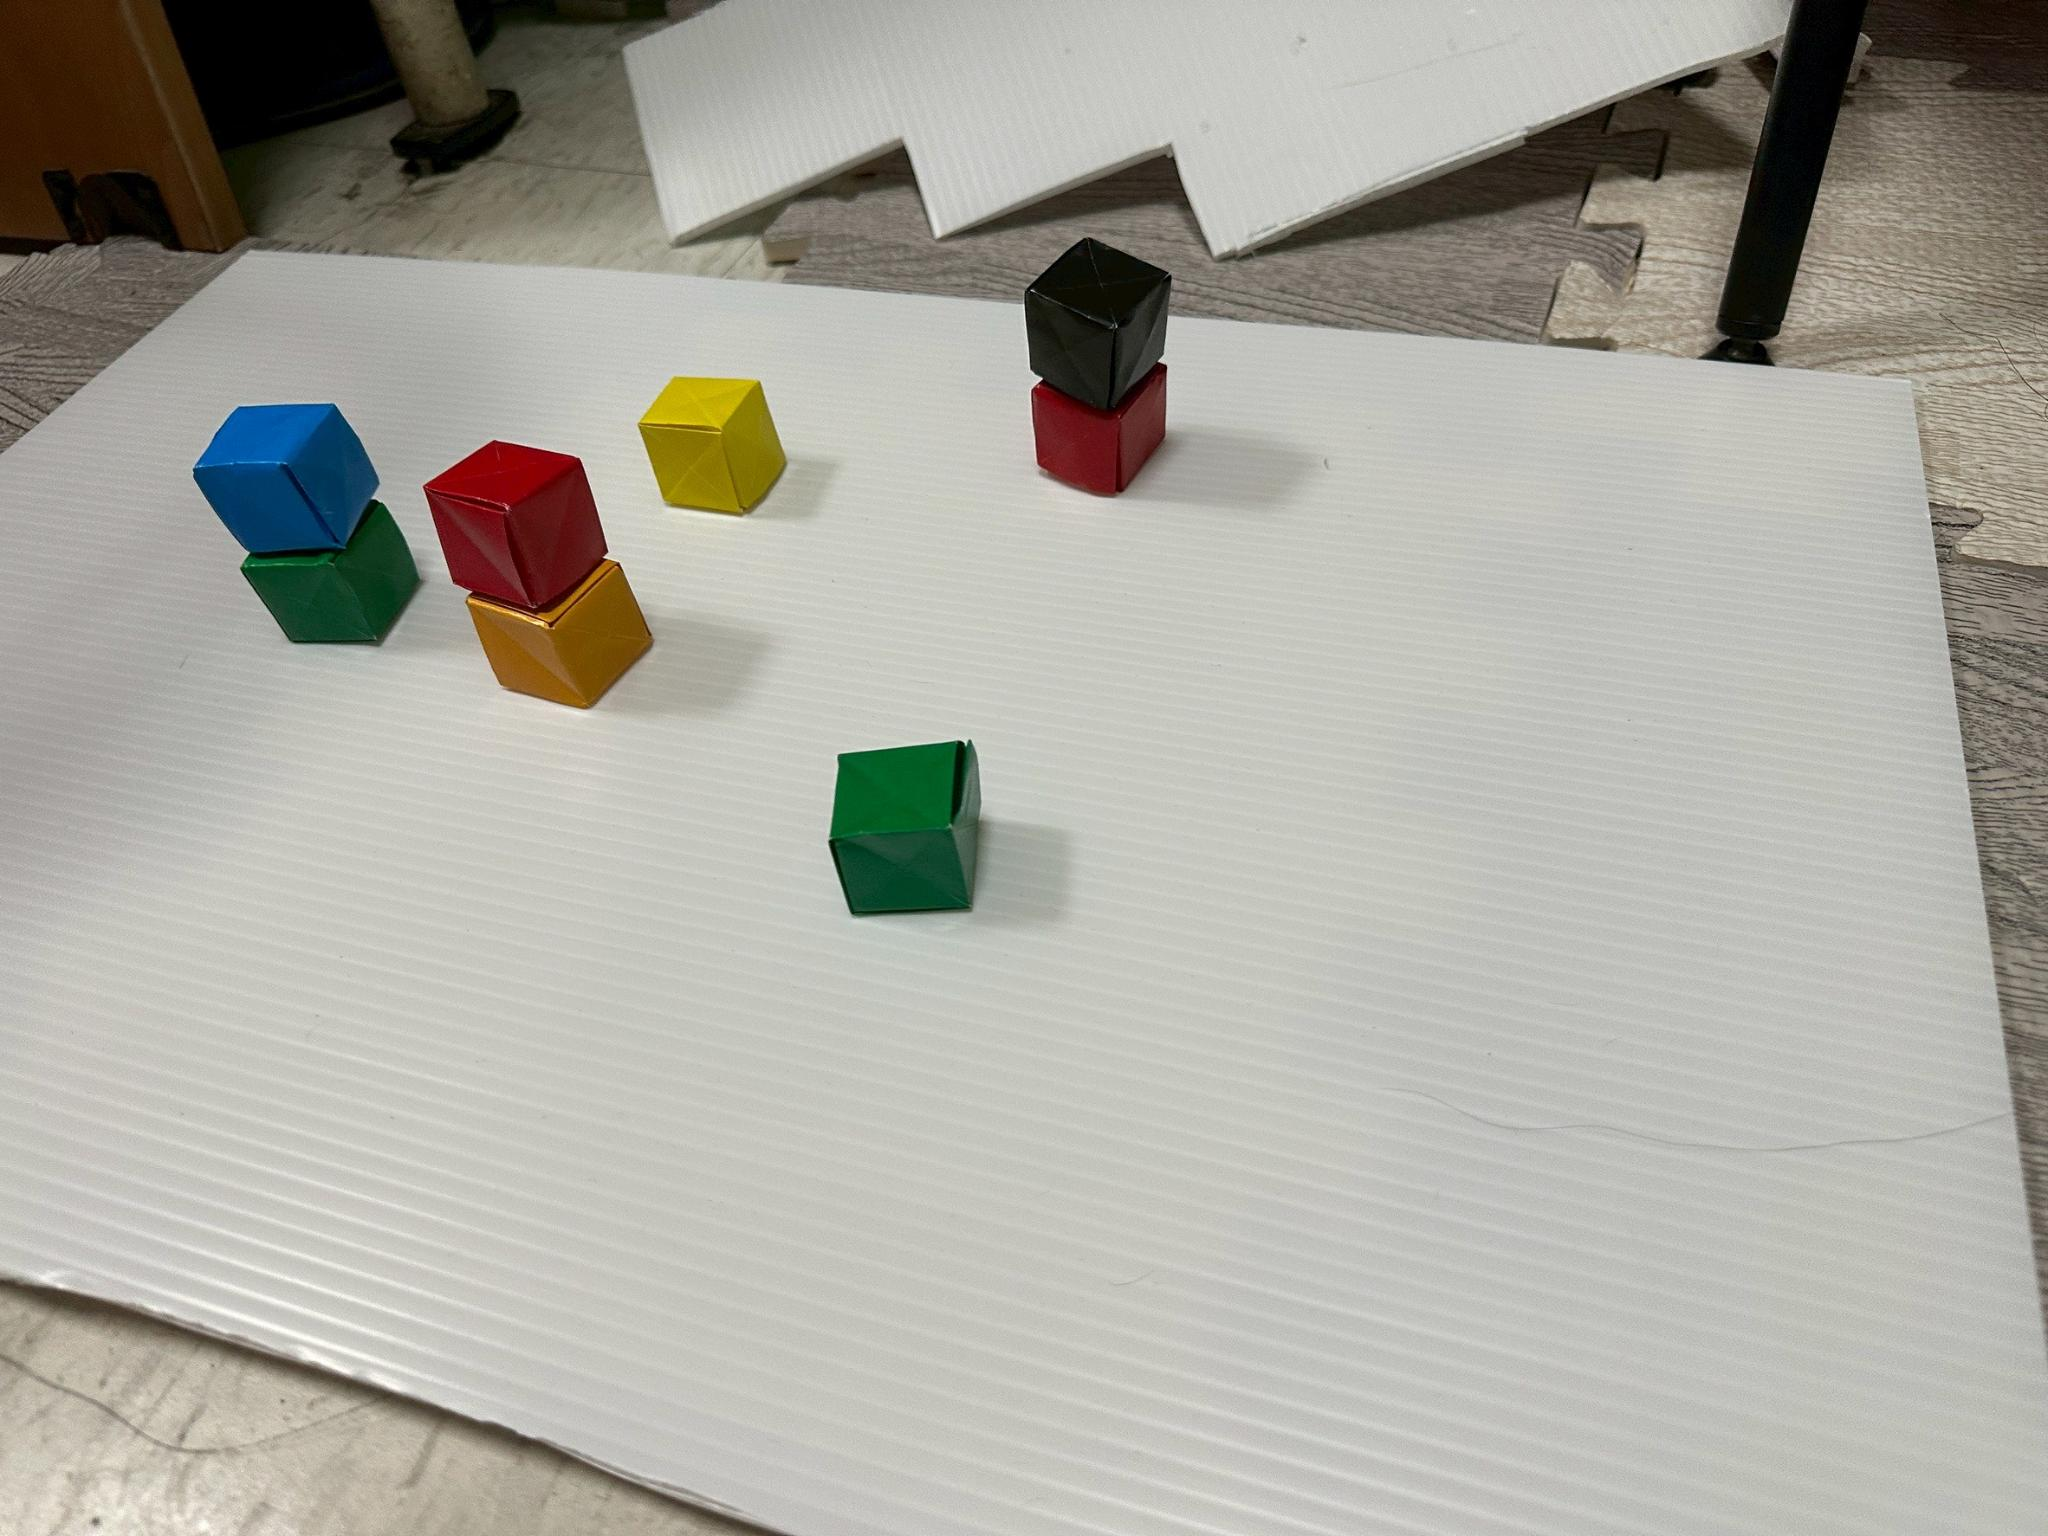base: (424, 440, 606, 610), (468, 560, 653, 708), (195, 403, 379, 552), (829, 741, 980, 913), (1024, 239, 1171, 408), (242, 502, 418, 642), (639, 378, 784, 513), (1032, 365, 1168, 495)
